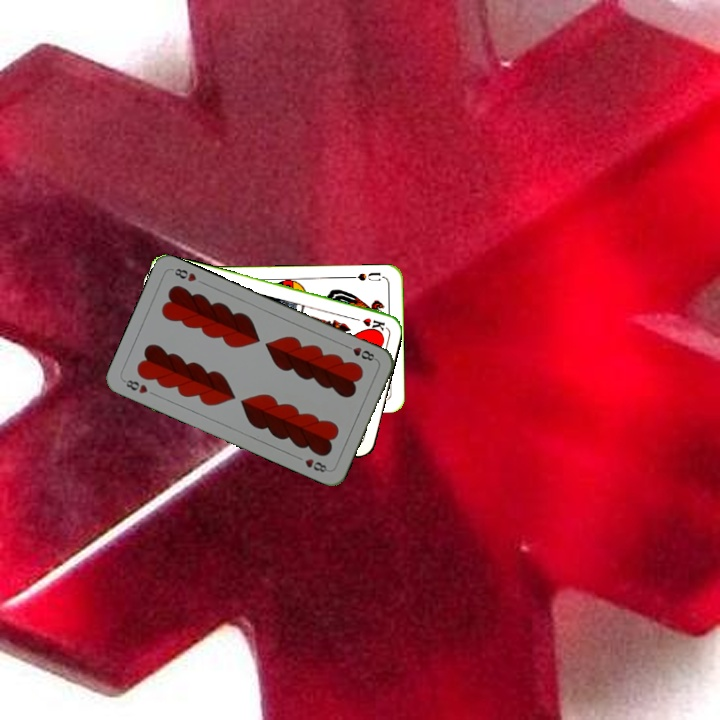H8: (341, 341, 379, 364), (119, 375, 150, 396)
HK: (347, 313, 388, 333)
SU: (346, 268, 383, 283)
